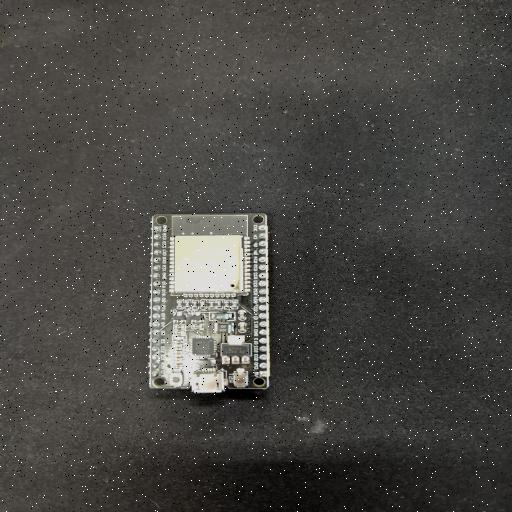esp32-dev: (149, 213, 269, 393)
